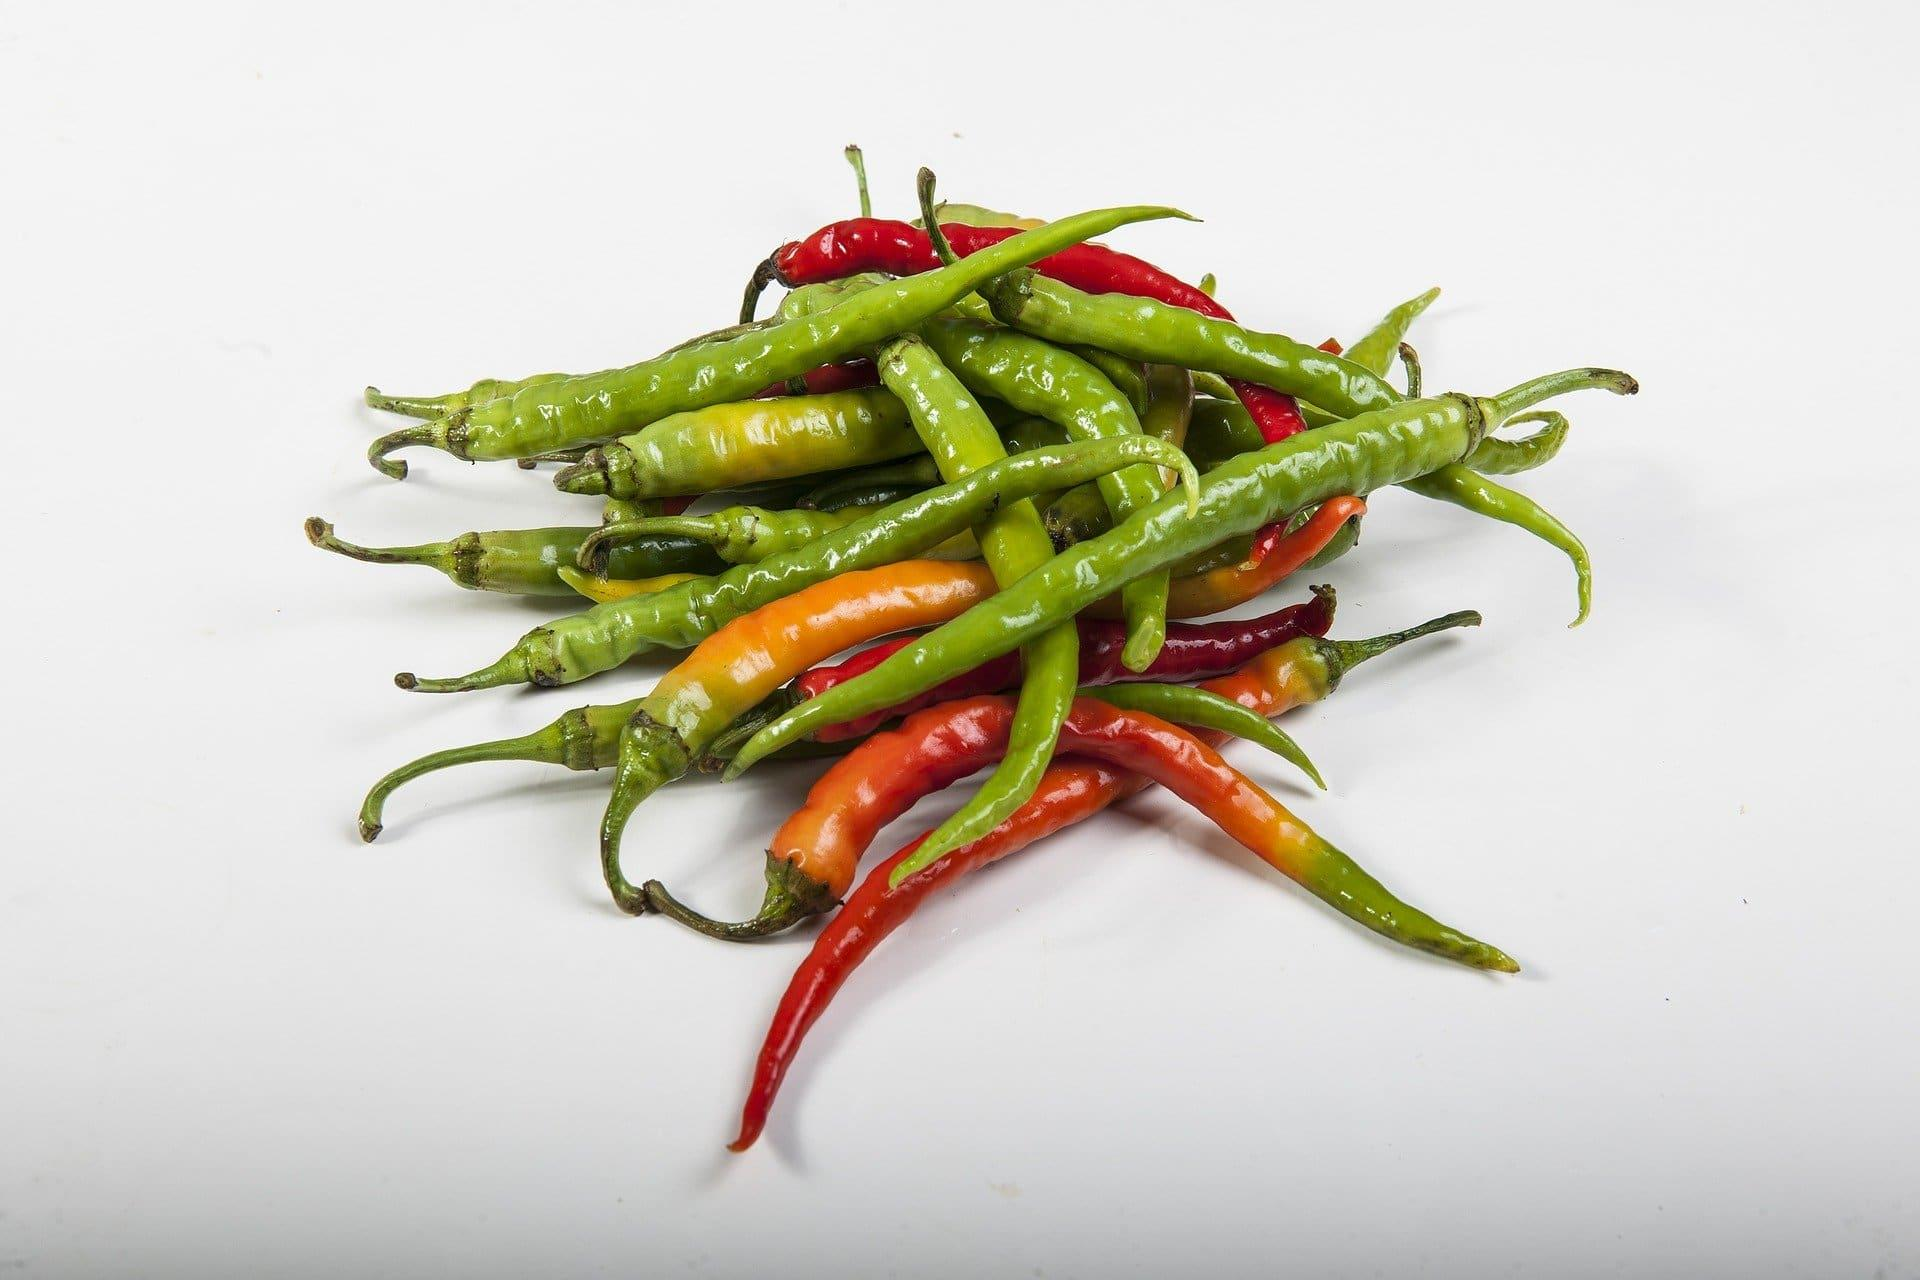chilli pepper: (309, 147, 1639, 1151), (724, 683, 1520, 1153), (360, 199, 1231, 481), (1051, 690, 1521, 974)
